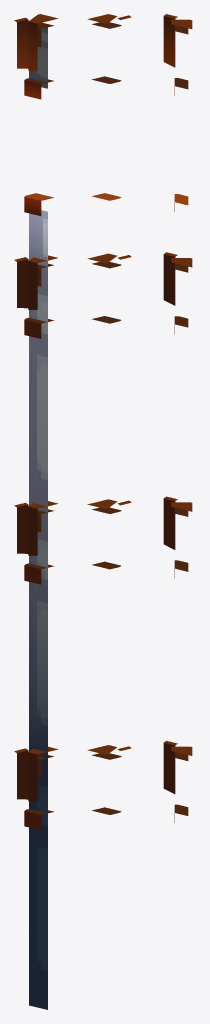
3 views of the same model, side by side, from view 1: azimuth 30°, elevation 25°; view 2: azimuth 210°, elevation 25°; view 3: azimuth 330°, elevation 25° (orthographic).
Size of the model in its own units: 1.52 by 40.25 by 0.6875.
2 materials, 2 textured.
